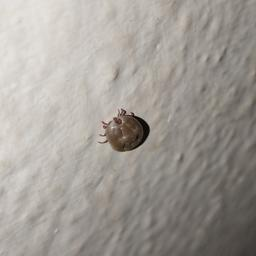Rhipicephalus sanguineus: (98, 107, 146, 153)
